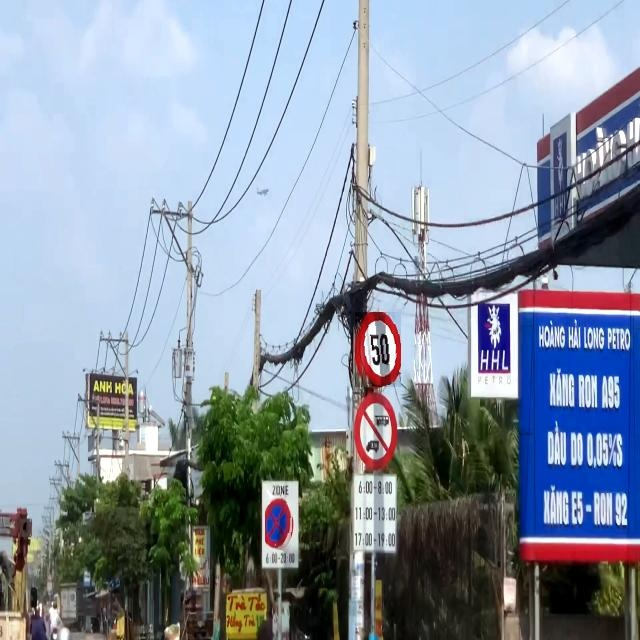bien_cam: (355, 312, 401, 387), (266, 497, 296, 551)
